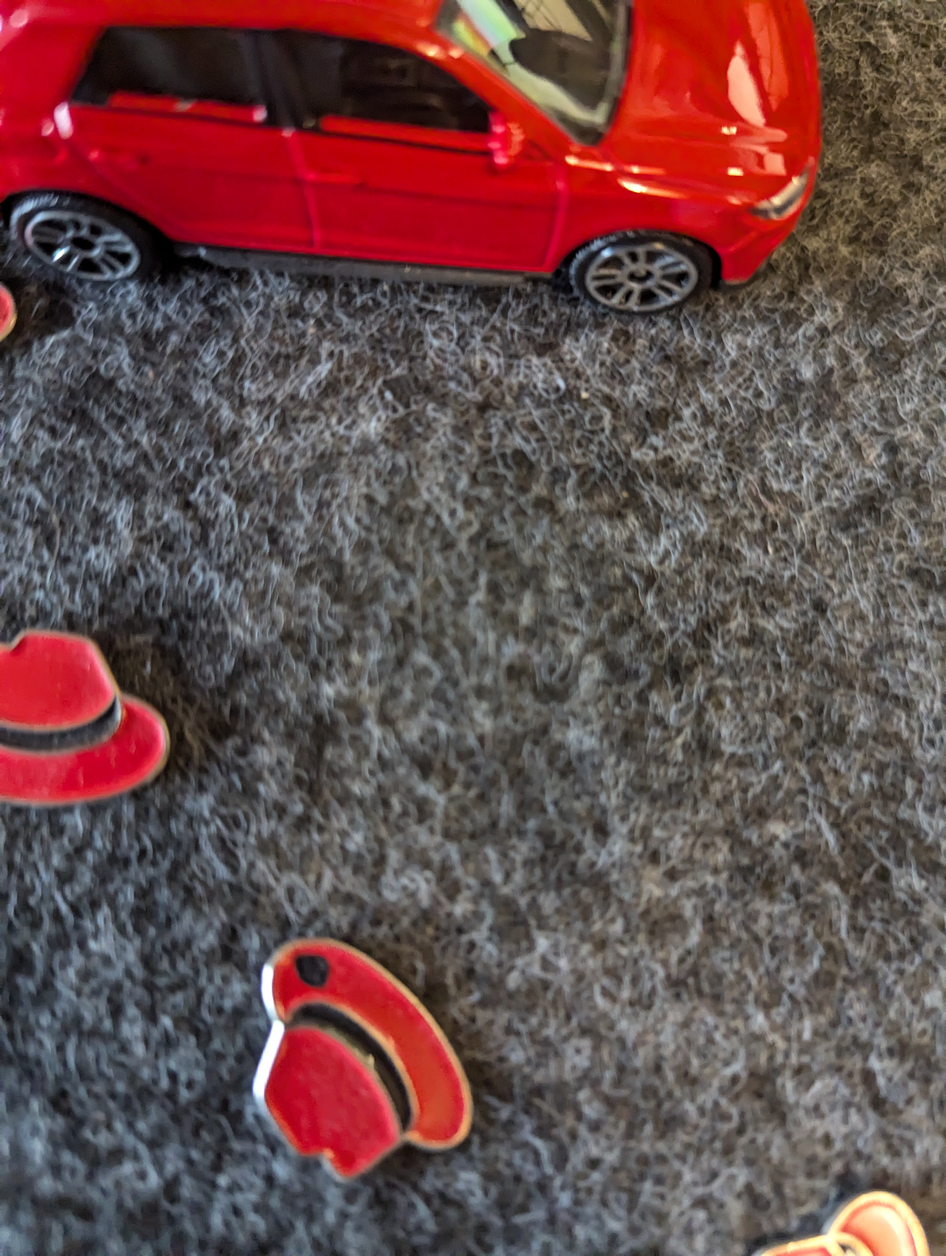Car: (0, 0, 860, 343)
Red-Hat: (210, 894, 510, 1200), (0, 610, 221, 843)
Scratch: (277, 928, 368, 1009)
